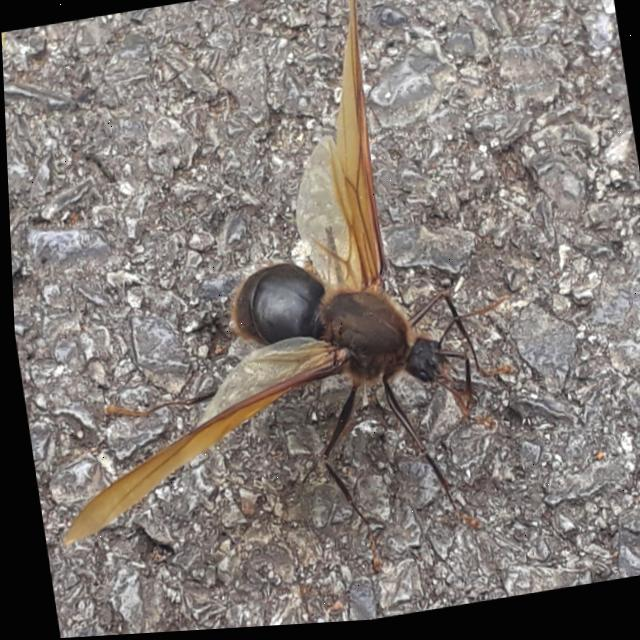Alive-Male-Alate: (0, 0, 545, 628)
